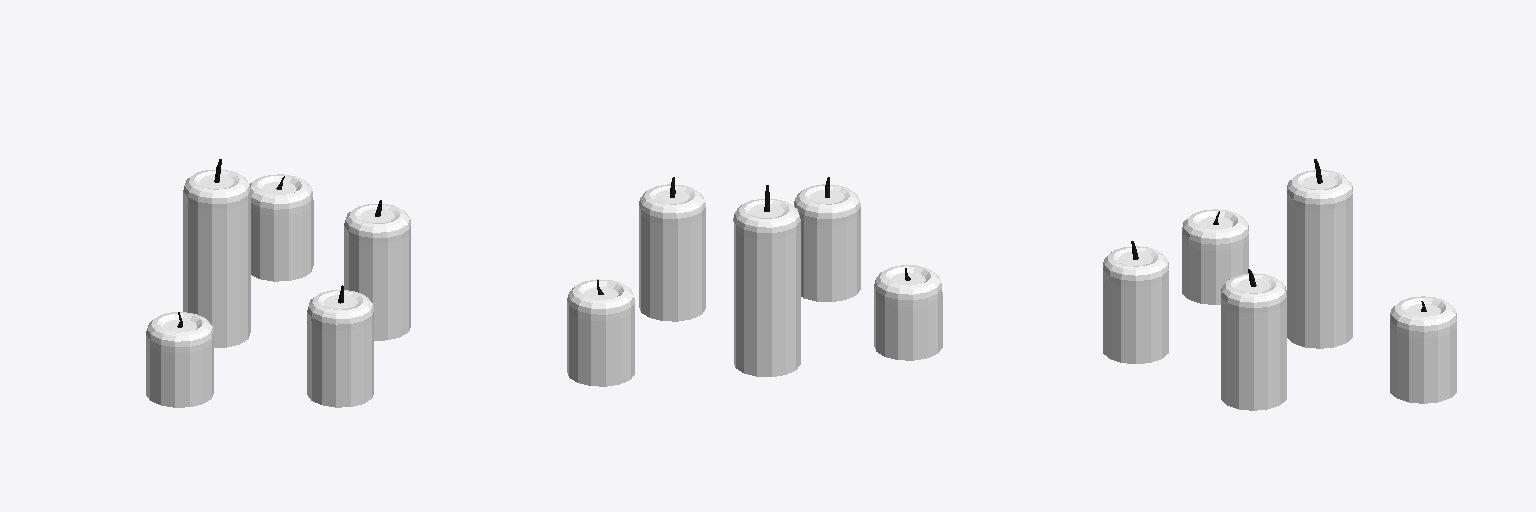
File: Candle_A.obj
3 views of the same model, side by side, from view 1: azimuth 30°, elevation 25°; view 2: azimuth 150°, elevation 25°; view 3: azimuth 270°, elevation 25° (orthographic).
Parts seen in each view (by area): view 1: Candle_A; view 2: Candle_A; view 3: Candle_A.
Boxes of the visible parts, <box> form: Candle_A: <box>146,159,410,407</box>; Candle_A: <box>567,177,942,386</box>; Candle_A: <box>1103,159,1456,410</box>.
Bounding box in the file's own units: 4.53 × 2.76 × 5.03.